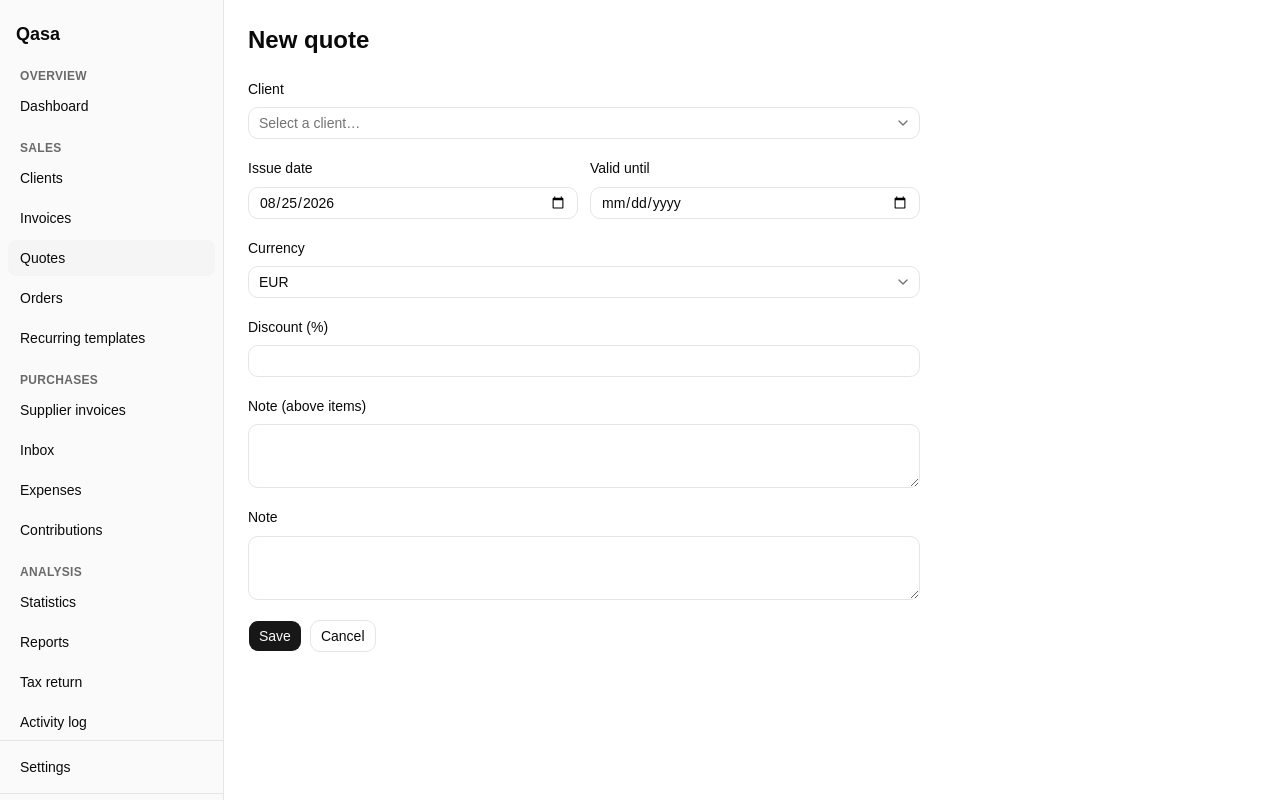
Test: quote form › maps a 422 response onto the valid_until field
Click the dropdown labelled "client" at {"x": 310, "y": 123}, box top-left (248, 107), bottom-right (920, 139)
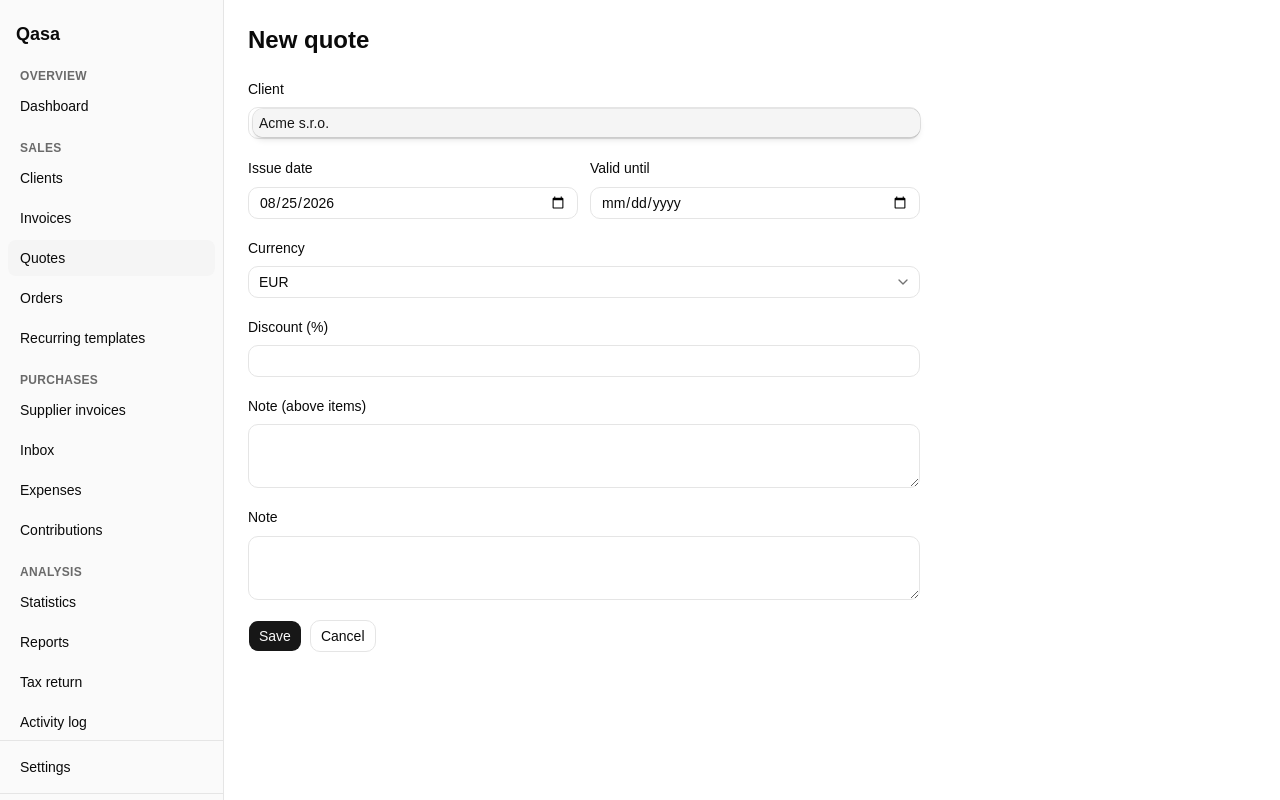
Click the option "Acme s.r.o." at {"x": 294, "y": 123}, box top-left (253, 109), bottom-right (920, 137)
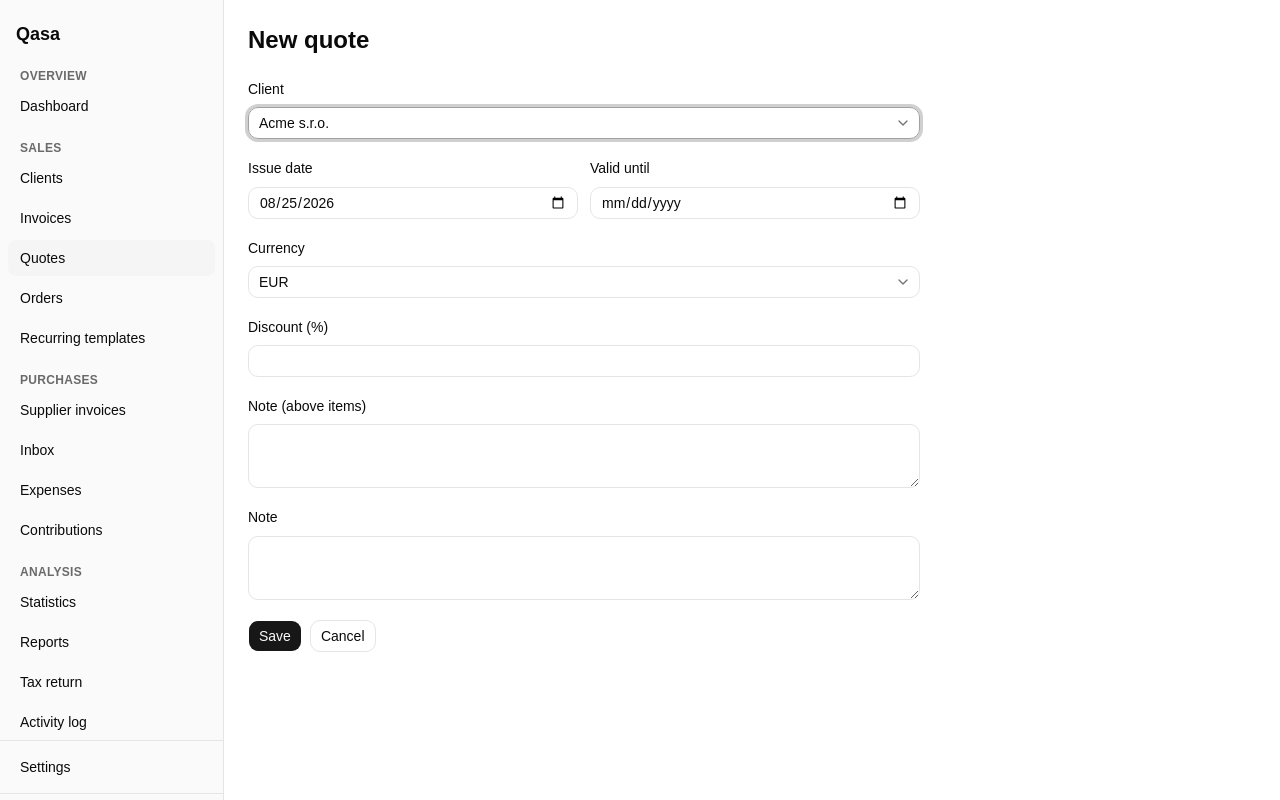
Click the button "Save" at {"x": 275, "y": 636}, box top-left (248, 620), bottom-right (302, 652)
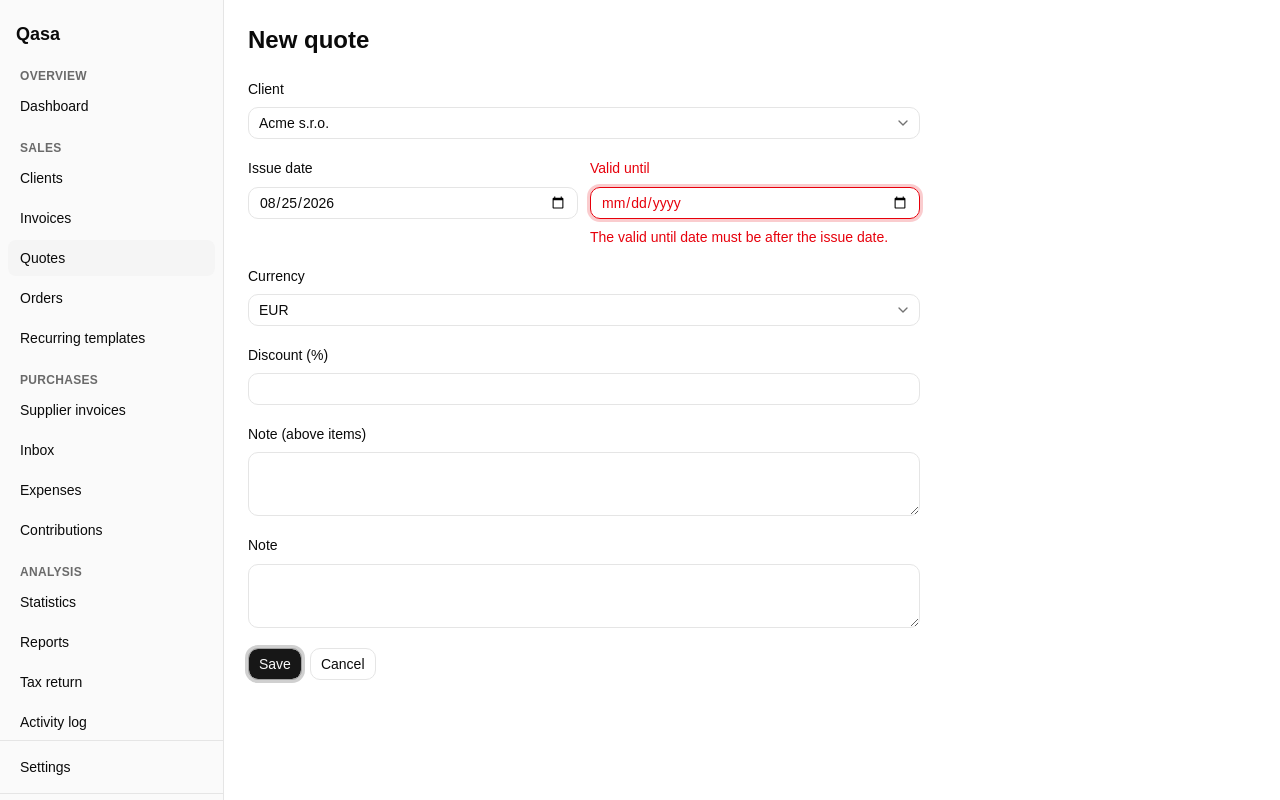
Result: the text "The valid until date must be after the issue date." is shown at top-left (590, 226), bottom-right (920, 246)
